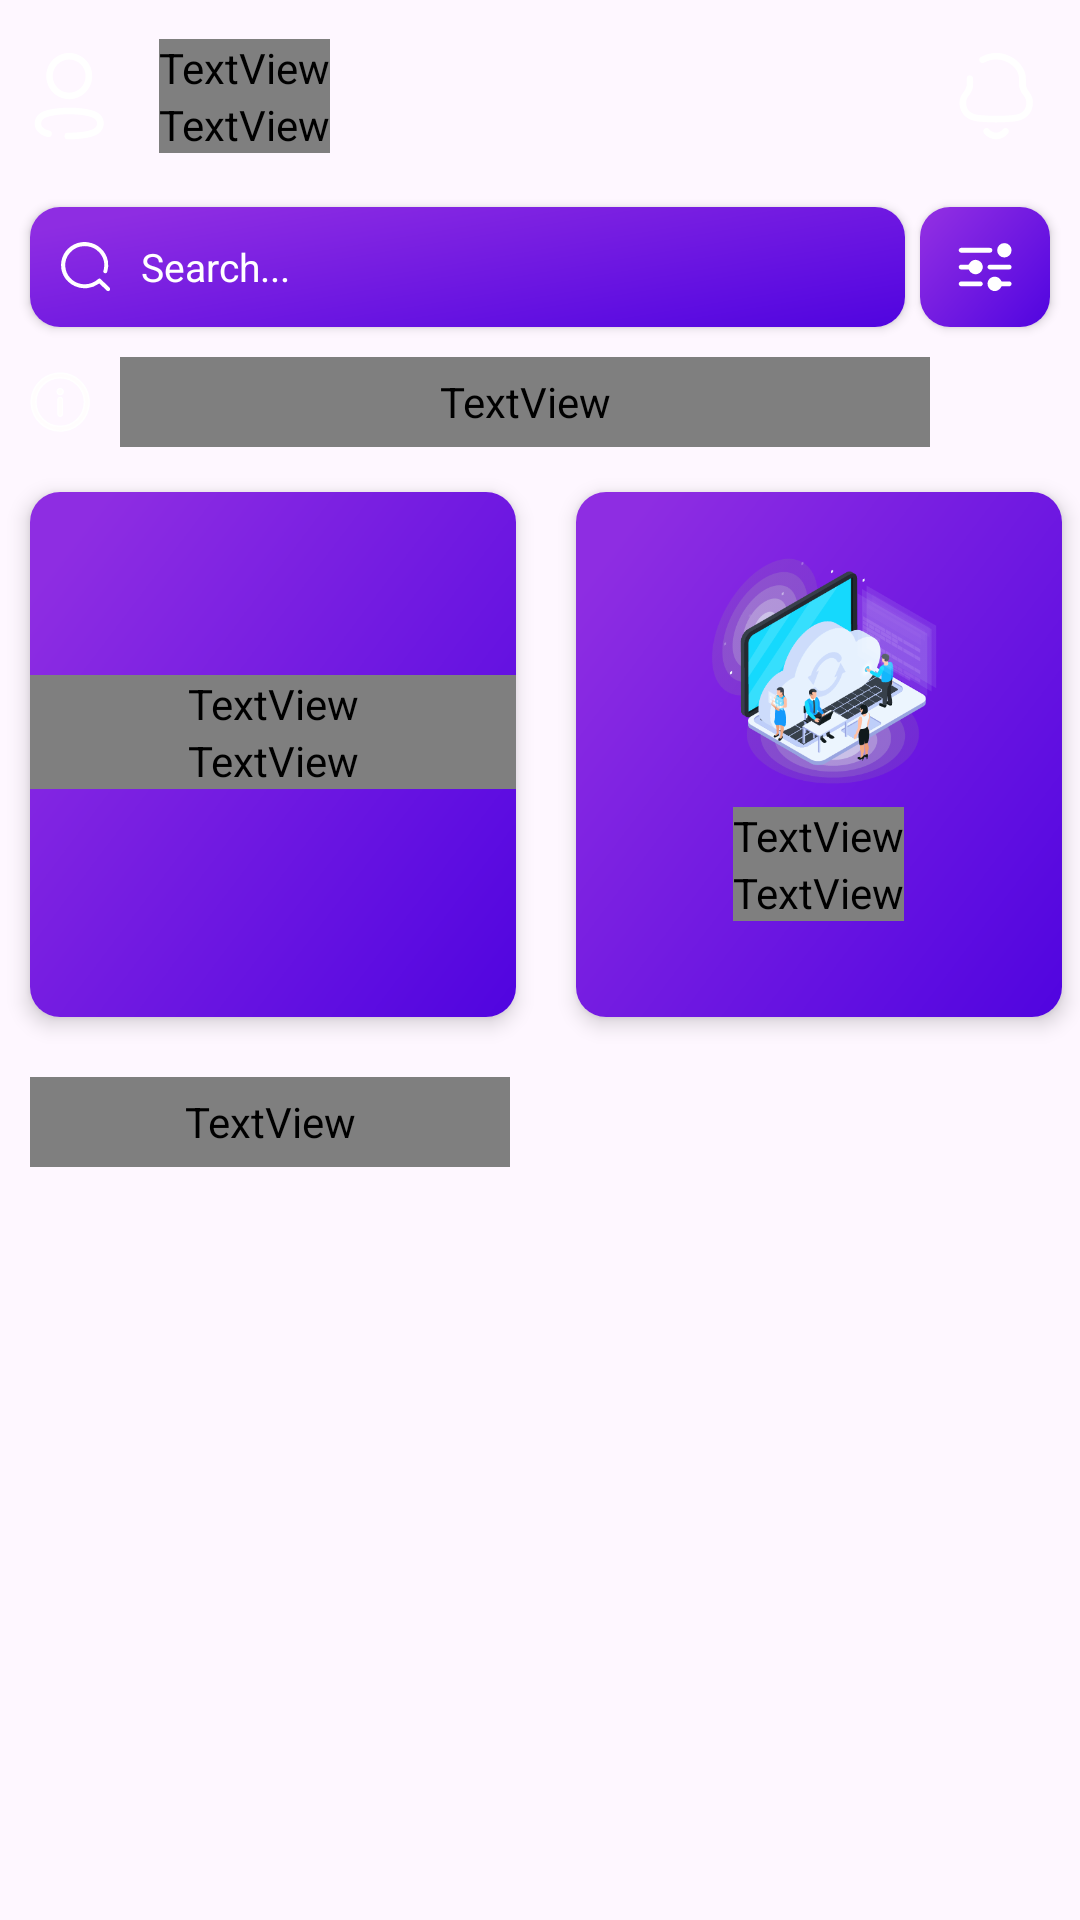

Where icons sit on this 1080 x 1920 app screen, as (x1, y1, x2, y2):
filter: (958, 243, 1012, 291)
